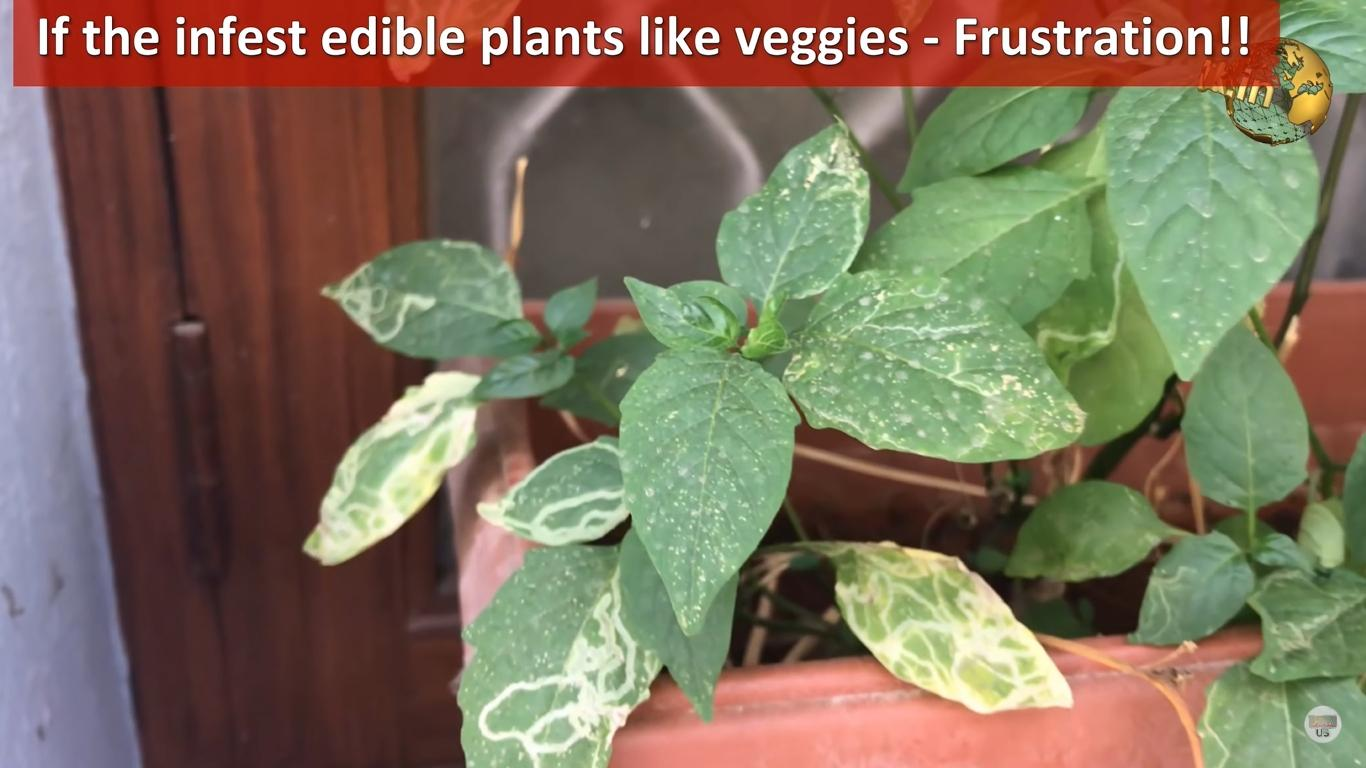Healthy: (1180, 318, 1311, 514)
Leaf_Miner: (785, 264, 1090, 464), (455, 536, 661, 768), (828, 539, 1076, 715), (301, 368, 481, 565), (711, 115, 871, 306), (318, 231, 522, 364), (474, 429, 631, 545), (1123, 525, 1254, 649), (1026, 234, 1134, 368)
